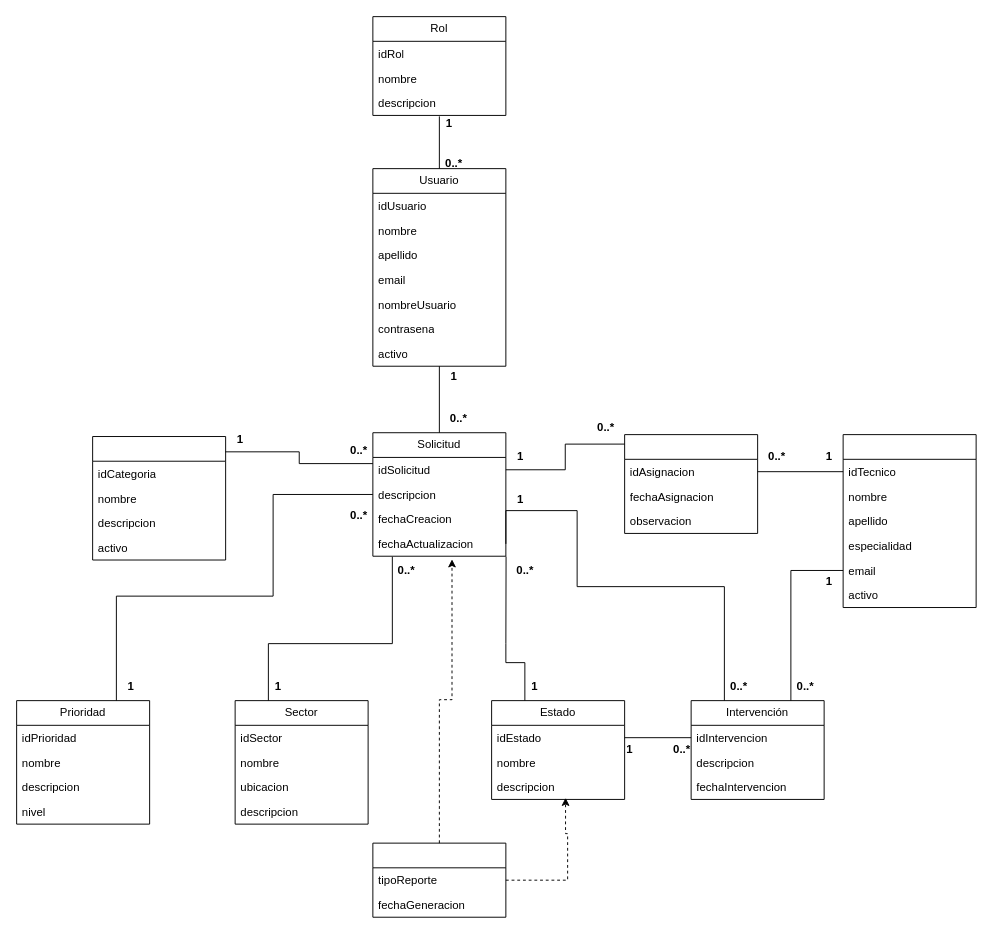
Some shapes in this 993 by 937 pixel diagram are drawn without their labels. Here are the shapes that lost their labels. From the top down, the box of each, then its label:
(92, 436, 226, 560): Categoría
(624, 434, 758, 533): Asignación
(842, 434, 976, 608): Técnico
(372, 842, 506, 917): <<consulta>> Reporte
